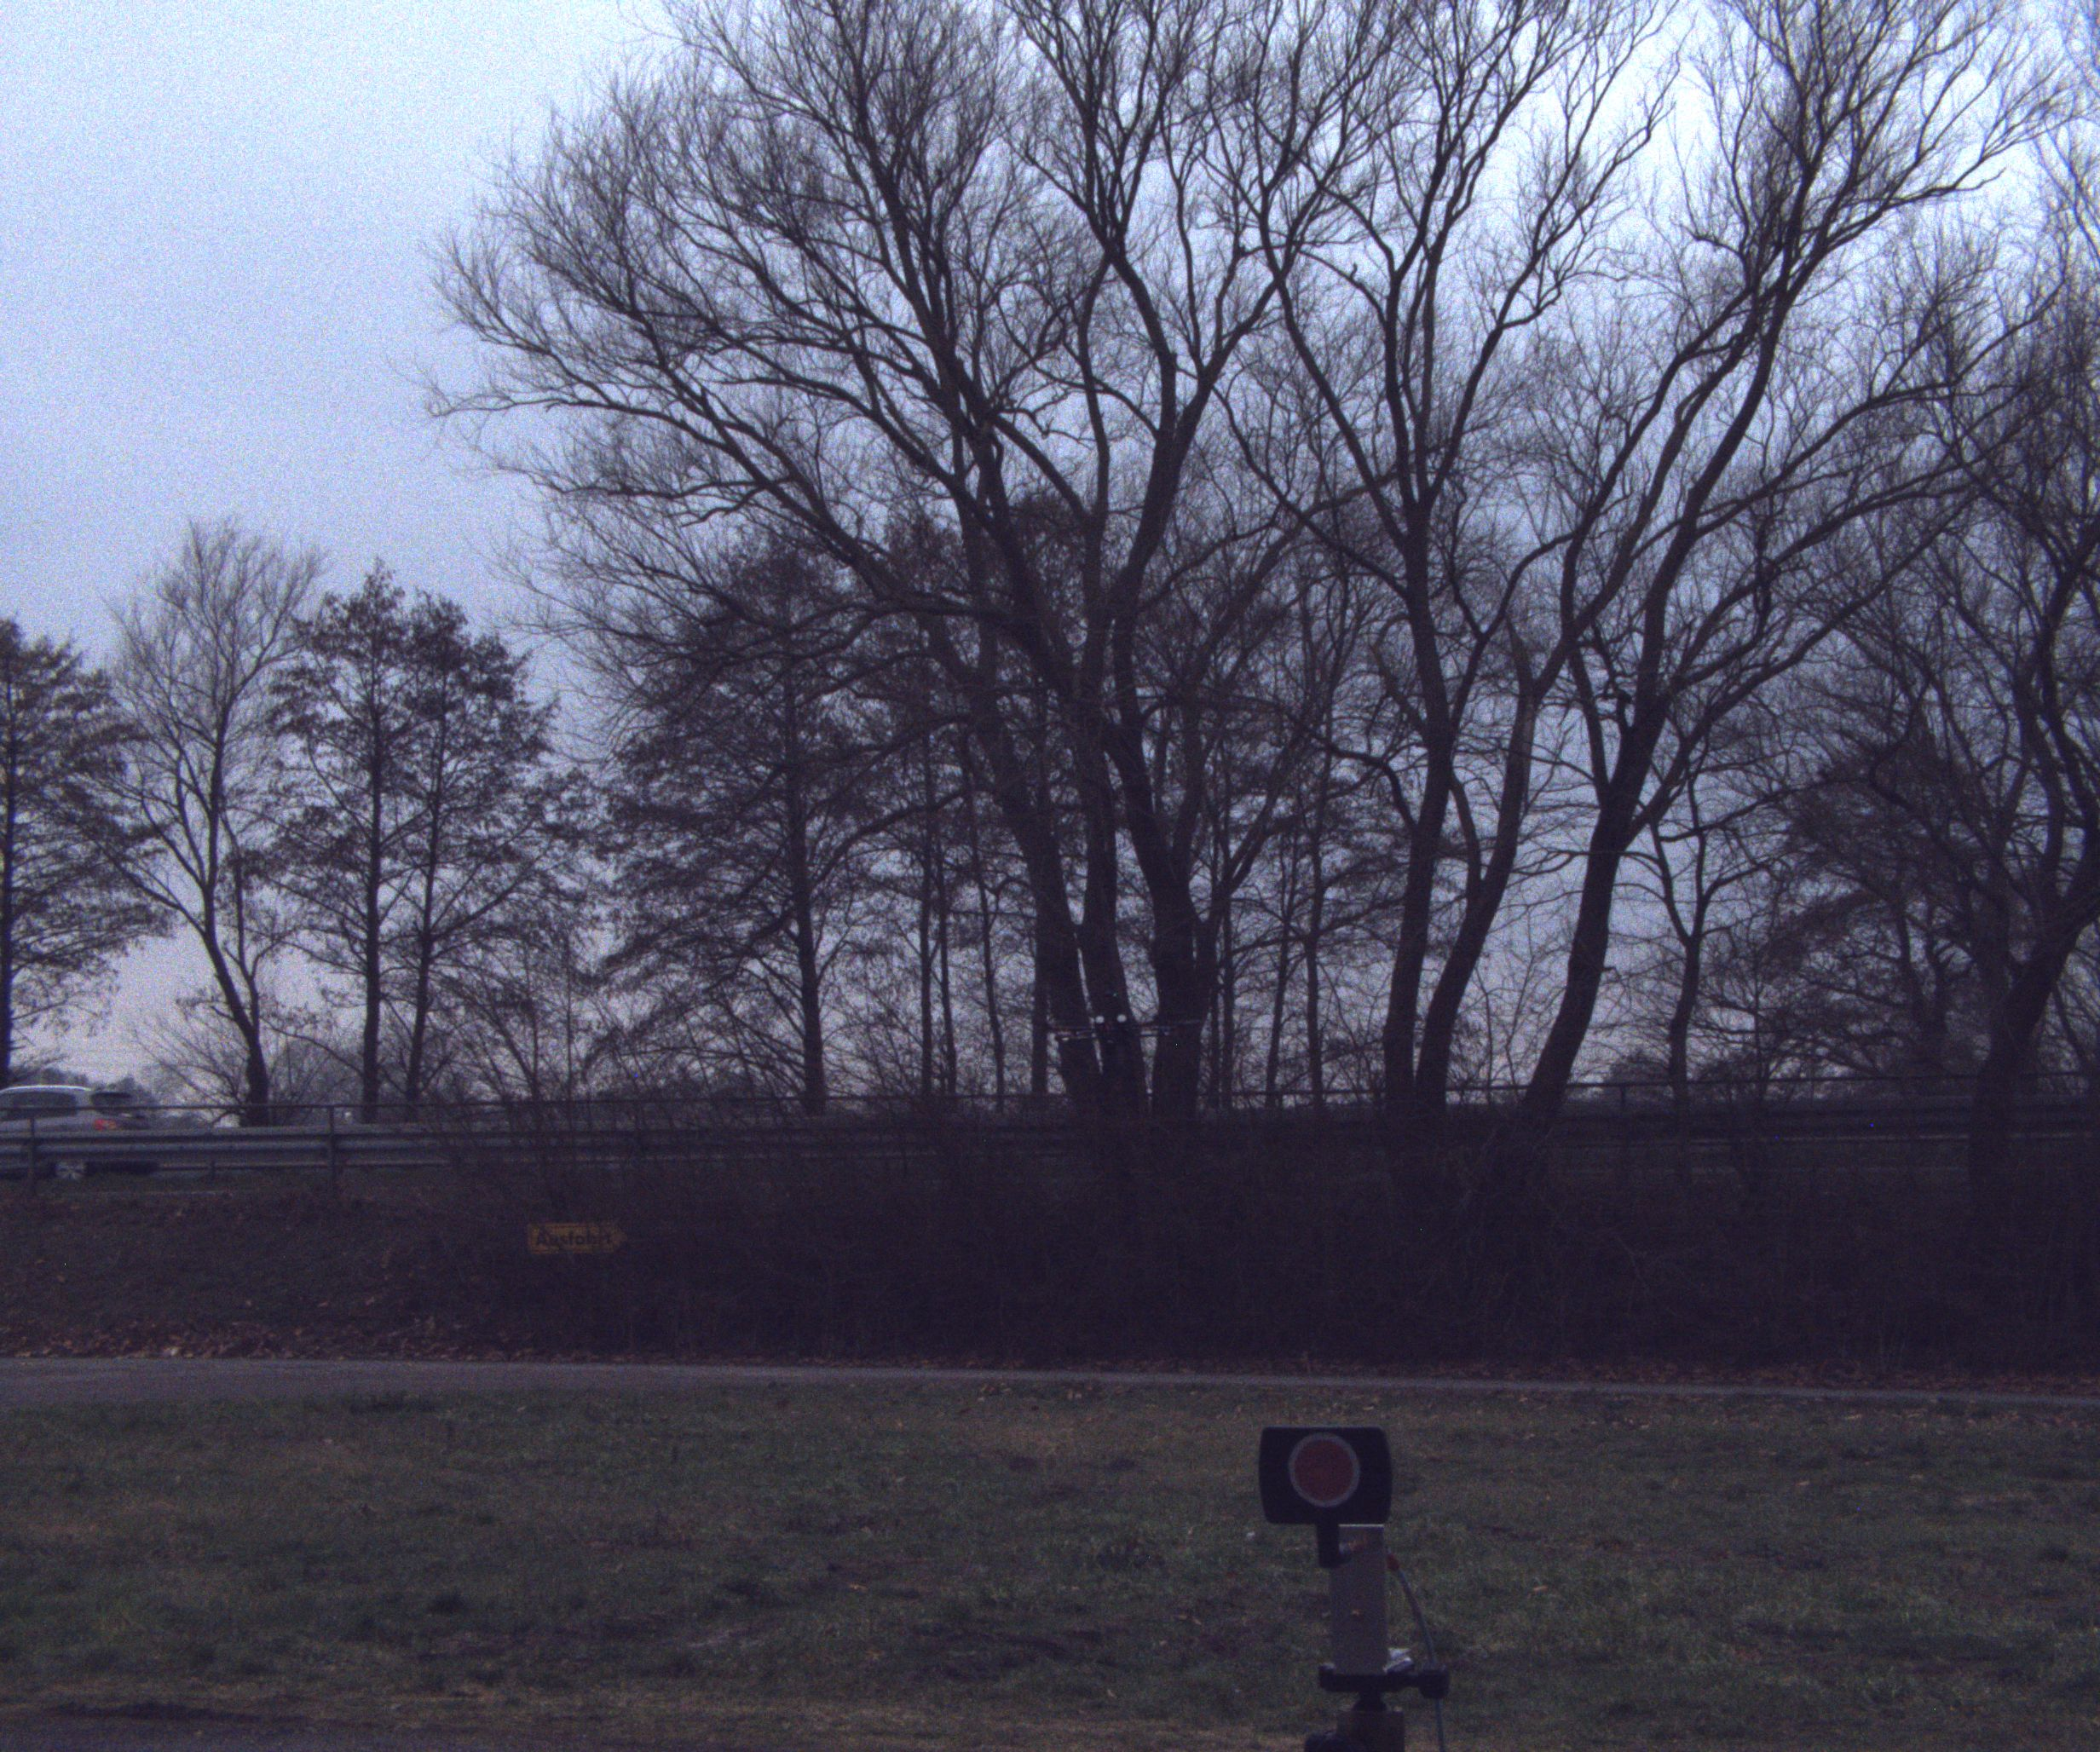Drohne: (928, 901, 1223, 1109)
